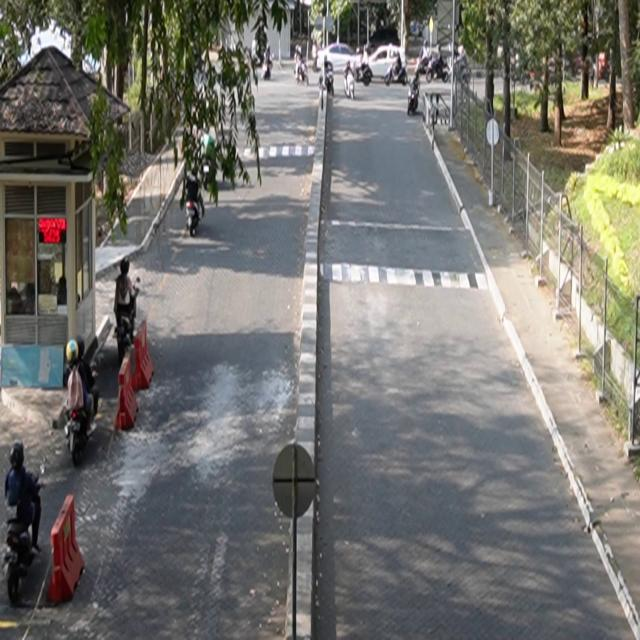car: (316, 44, 358, 75)
